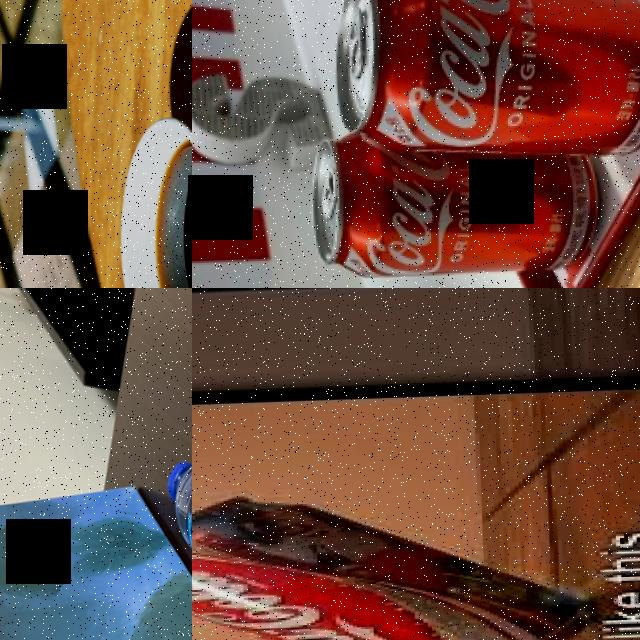can: (192, 481, 598, 640), (305, 114, 617, 280), (332, 0, 640, 168)
cup: (114, 108, 192, 288)
